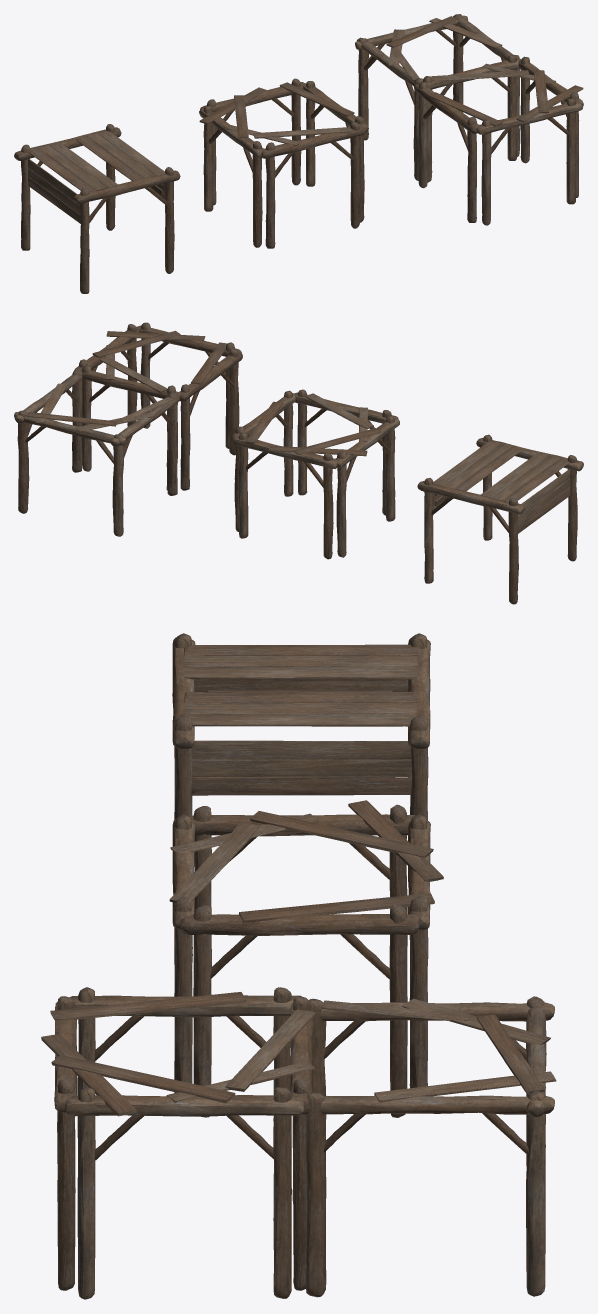
Rendered from Mining_Supports_Small_A1.fbx.
3 views of the same model, one above another, from view 1: azimuth 30°, elevation 25°; view 2: azimuth 150°, elevation 25°; view 3: azimuth 270°, elevation 25° (orthographic). The views are drawn at different scales.
Parts seen in each view (by area): view 1: Mining_Supports_B1_Small, Mining_Supports_B3_Small, Mining_Supports_B2_Small, Mining_Supports_B1_Small.001, Mining_Supports_B1_Small.002, Mining_Supports_B2_Small.002, Mining_Supports_B2_Small.001, Mining_Supports_B3_Small.001, Mining_Supports_B3_Small.002; view 2: Mining_Supports_B1_Small, Mining_Supports_B3_Small, Mining_Supports_B2_Small, Mining_Supports_B1_Small.001, Mining_Supports_B1_Small.002, Mining_Supports_B2_Small.002, Mining_Supports_B2_Small.001, Mining_Supports_B3_Small.001, Mining_Supports_B3_Small.002; view 3: Mining_Supports_B1_Small, Mining_Supports_B3_Small, Mining_Supports_B2_Small, Mining_Supports_B1_Small.001, Mining_Supports_B1_Small.002, Mining_Supports_B2_Small.002, Mining_Supports_B2_Small.001, Mining_Supports_B3_Small.002, Mining_Supports_B3_Small.001.
Boxes of the visible parts, <box> form: Mining_Supports_B1_Small: <box>355,14,583,225</box>; Mining_Supports_B3_Small: <box>14,124,180,293</box>; Mining_Supports_B2_Small: <box>199,78,368,248</box>; Mining_Supports_B1_Small.001: <box>355,14,583,224</box>; Mining_Supports_B1_Small.002: <box>355,14,583,224</box>; Mining_Supports_B2_Small.002: <box>199,78,368,248</box>; Mining_Supports_B2_Small.001: <box>199,79,368,248</box>; Mining_Supports_B3_Small.001: <box>14,124,179,292</box>; Mining_Supports_B3_Small.002: <box>14,124,179,293</box>; Mining_Supports_B1_Small: <box>14,322,242,536</box>; Mining_Supports_B3_Small: <box>417,434,583,604</box>; Mining_Supports_B2_Small: <box>231,389,399,558</box>; Mining_Supports_B1_Small.001: <box>14,322,242,536</box>; Mining_Supports_B1_Small.002: <box>14,323,242,536</box>; Mining_Supports_B2_Small.002: <box>231,390,399,559</box>; Mining_Supports_B2_Small.001: <box>231,389,398,559</box>; Mining_Supports_B3_Small.001: <box>418,435,582,603</box>; Mining_Supports_B3_Small.002: <box>417,435,583,603</box>; Mining_Supports_B1_Small: <box>41,987,555,1299</box>; Mining_Supports_B3_Small: <box>172,633,430,817</box>; Mining_Supports_B2_Small: <box>170,800,442,1117</box>; Mining_Supports_B1_Small.001: <box>44,987,554,1298</box>; Mining_Supports_B1_Small.002: <box>41,987,556,1298</box>; Mining_Supports_B2_Small.002: <box>169,804,443,1117</box>; Mining_Supports_B2_Small.001: <box>171,802,443,1117</box>; Mining_Supports_B3_Small.002: <box>172,633,430,816</box>; Mining_Supports_B3_Small.001: <box>172,633,430,820</box>.
Size of the model in its own units: 1589 by 324 by 722.
